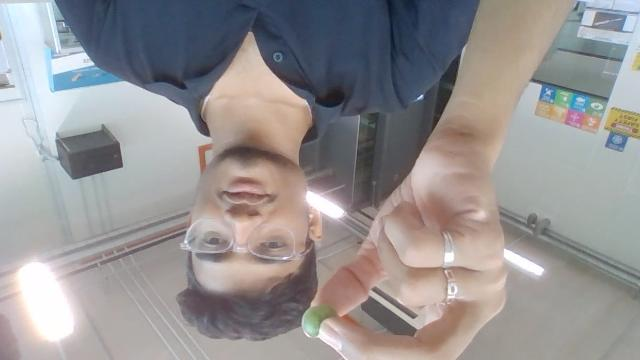Fruit Maturation: (302, 303, 339, 339)
